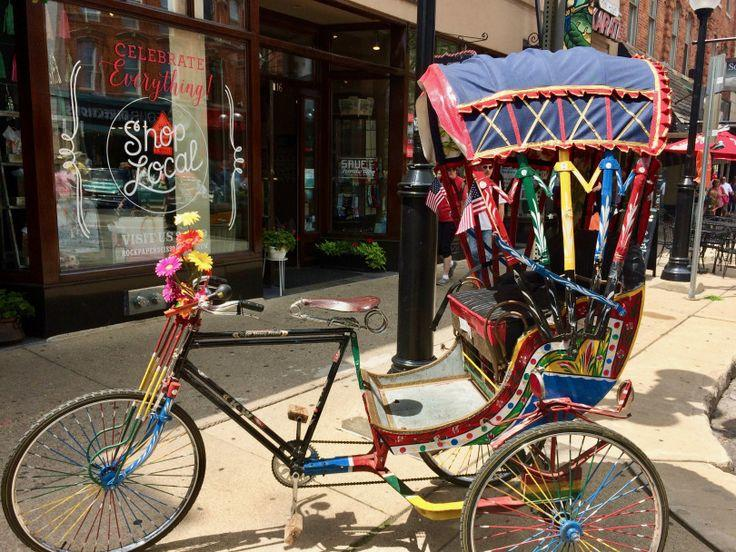Rickshaw: (2, 49, 668, 550)
